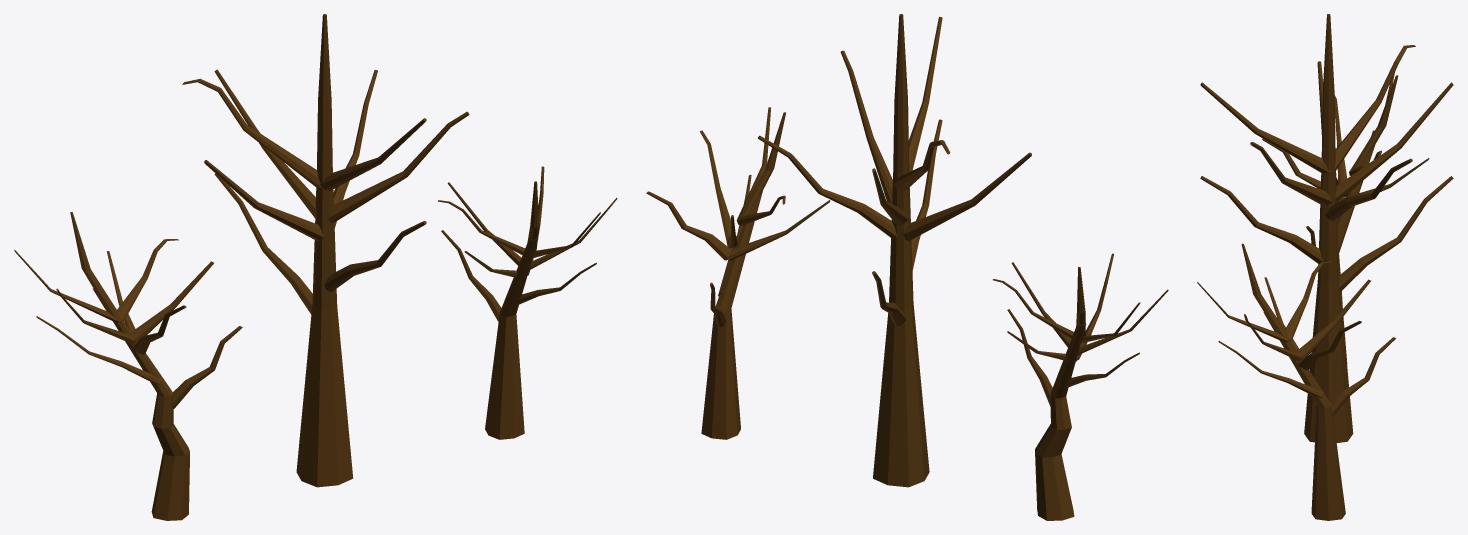
File: Dead_Trees.fbx
3 renders of one model, left to right at view 1: azimuth 30°, elevation 25°; view 2: azimuth 150°, elevation 25°; view 3: azimuth 270°, elevation 25°, orthographic. The views are drawn at different scales.
Visible parts, largest first — view 1: Cube.003, Cube.001, Cube.000; view 2: Cube.003, Cube.000, Cube.001; view 3: Cube.003, Cube.000, Cube.001.
Part boxes in pixels (box(x1,y1,x2,y2)): Cube.003: box(182, 14, 469, 487); Cube.001: box(14, 212, 242, 520); Cube.000: box(438, 166, 617, 439); Cube.003: box(757, 14, 1031, 487); Cube.000: box(646, 107, 830, 439); Cube.001: box(993, 253, 1168, 520); Cube.003: box(1200, 14, 1453, 442); Cube.000: box(1197, 243, 1395, 520); Cube.001: box(1262, 72, 1429, 364).
Bounding box in the file's own units: 3188 × 2690 × 1492.
